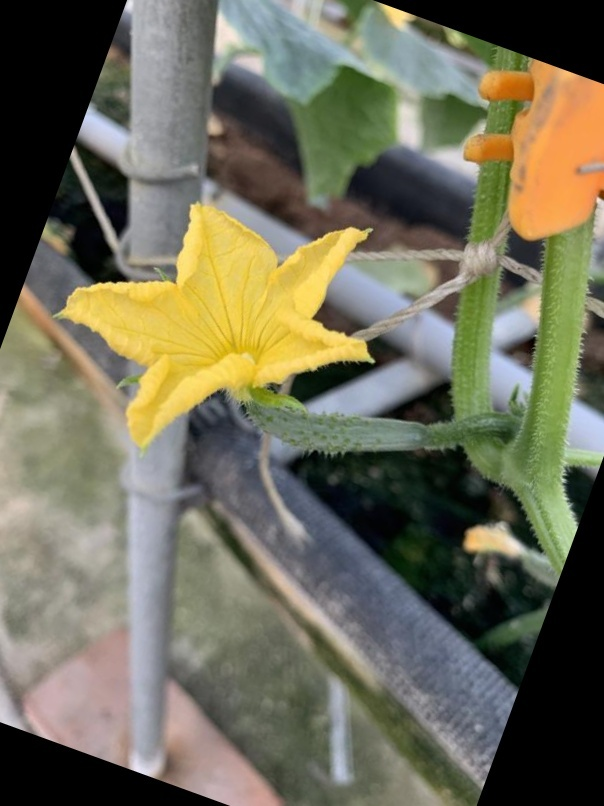flowering: (64, 187, 417, 453)
